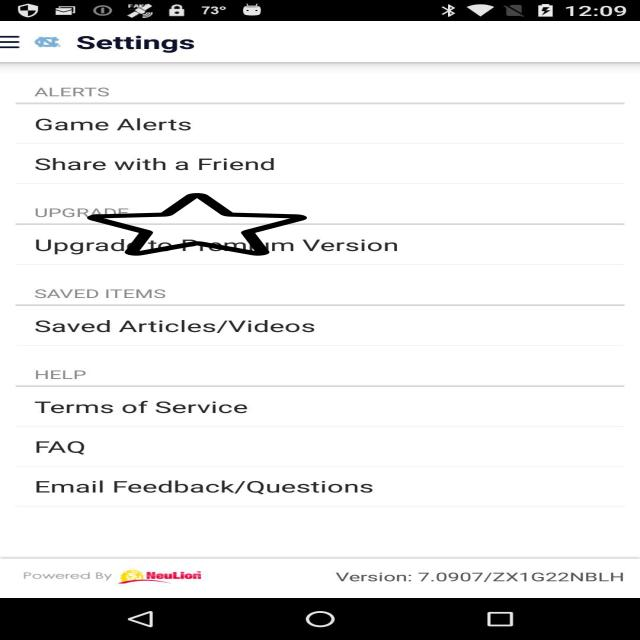forced continuity: (87, 192, 307, 257)
